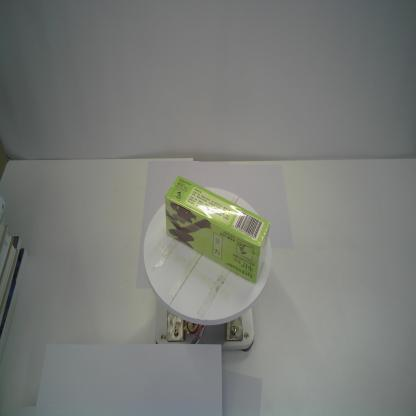Instant Drink: (161, 175, 273, 287)
